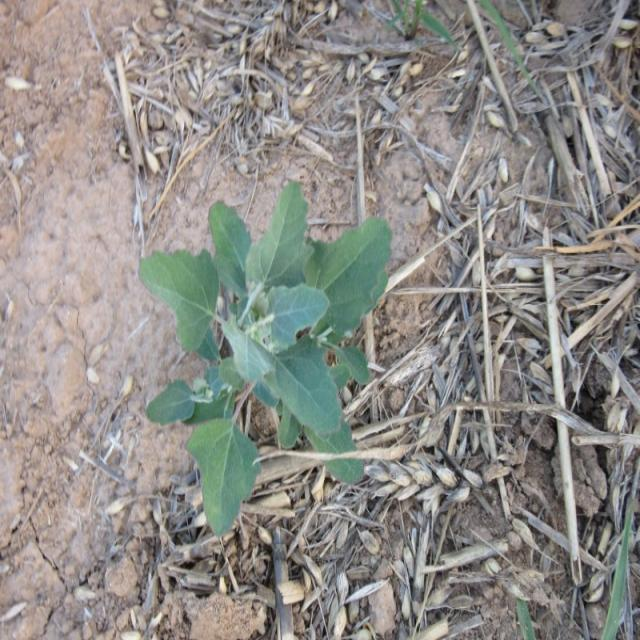ca: (136, 183, 392, 537)
